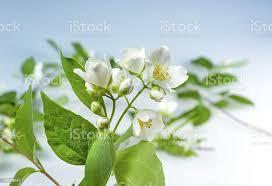jasmine: (66, 43, 198, 144)
